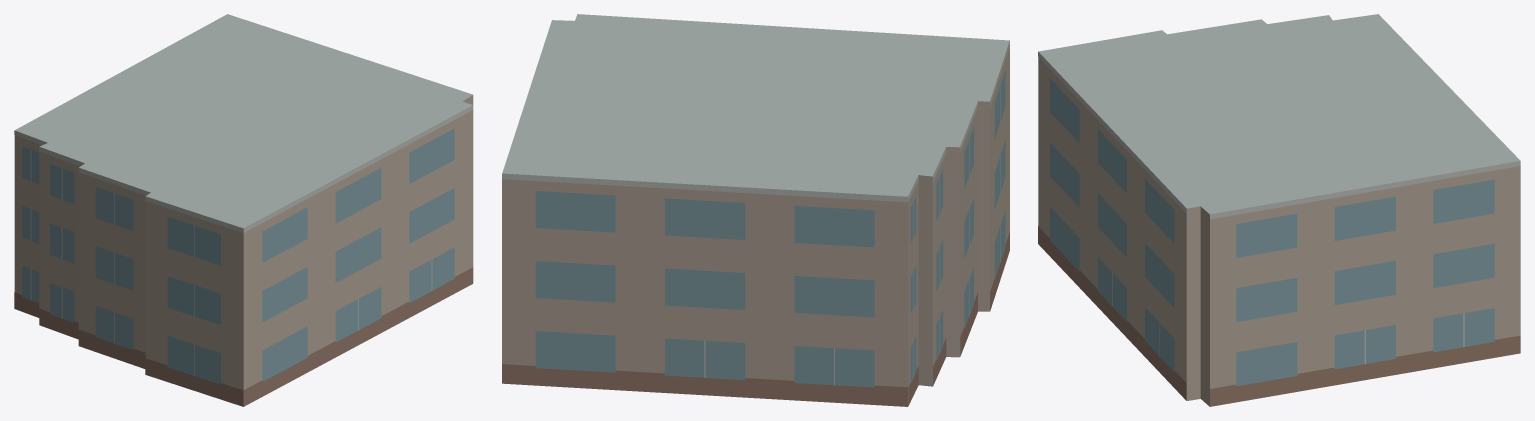
File: survey-upis-32835956.glb
3 views of the same model, side by side, from view 1: azimuth 30°, elevation 25°; view 2: azimuth 150°, elevation 25°; view 3: azimuth 270°, elevation 25° (orthographic). The views are drawn at different scales.
Visible parts, largest first — view 1: survey-upis-32835956.tmp; view 2: survey-upis-32835956.tmp; view 3: survey-upis-32835956.tmp.
Part boxes in pixels (x1,y1,x2,y2): survey-upis-32835956.tmp: (14,14,473,406); survey-upis-32835956.tmp: (502,14,1009,406); survey-upis-32835956.tmp: (1038,14,1520,406).
Size of the model in its own units: 20.43 by 9.15 by 20.79.
